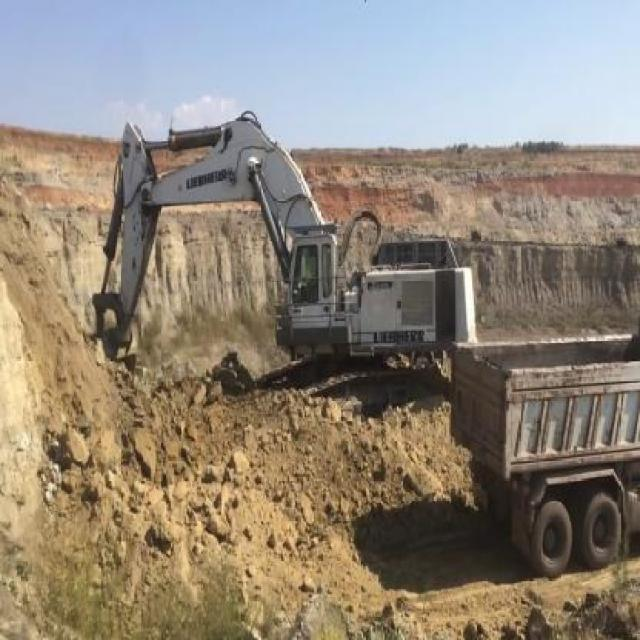Dump Truck: (443, 340, 639, 582)
Excavator: (86, 105, 477, 413)
